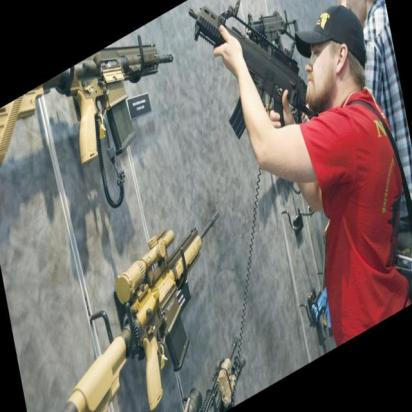Gun: (37, 196, 254, 412), (186, 0, 318, 174)
